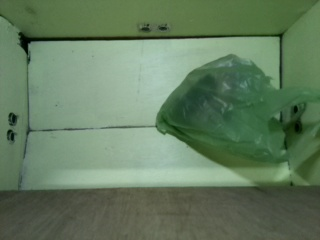plastic-bag: (154, 55, 320, 167)
